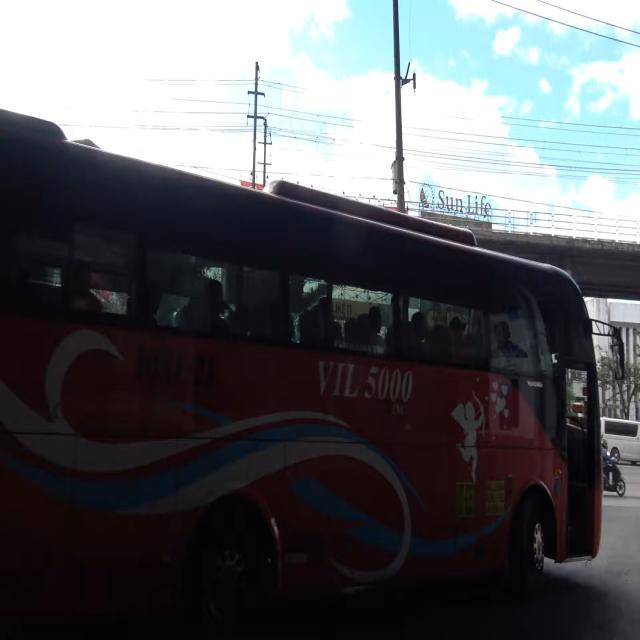bus: (0, 107, 607, 600)
car: (601, 416, 640, 466)
motorcycle: (602, 436, 628, 500)
